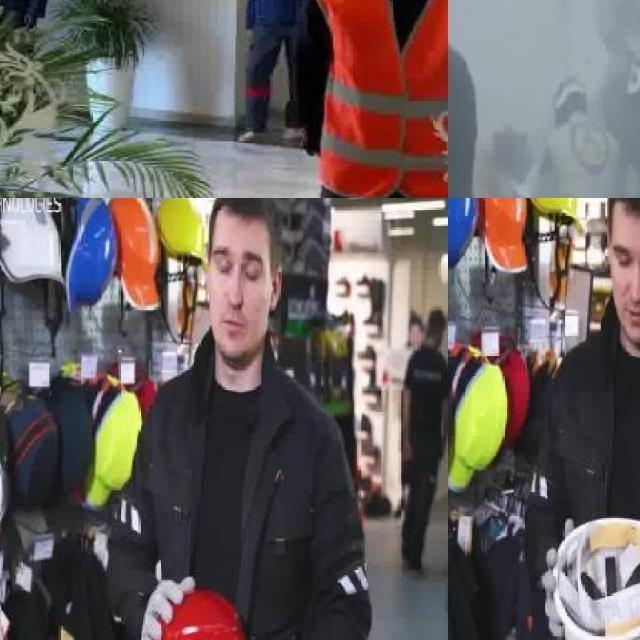apron: (543, 516, 572, 640), (139, 576, 195, 640)
